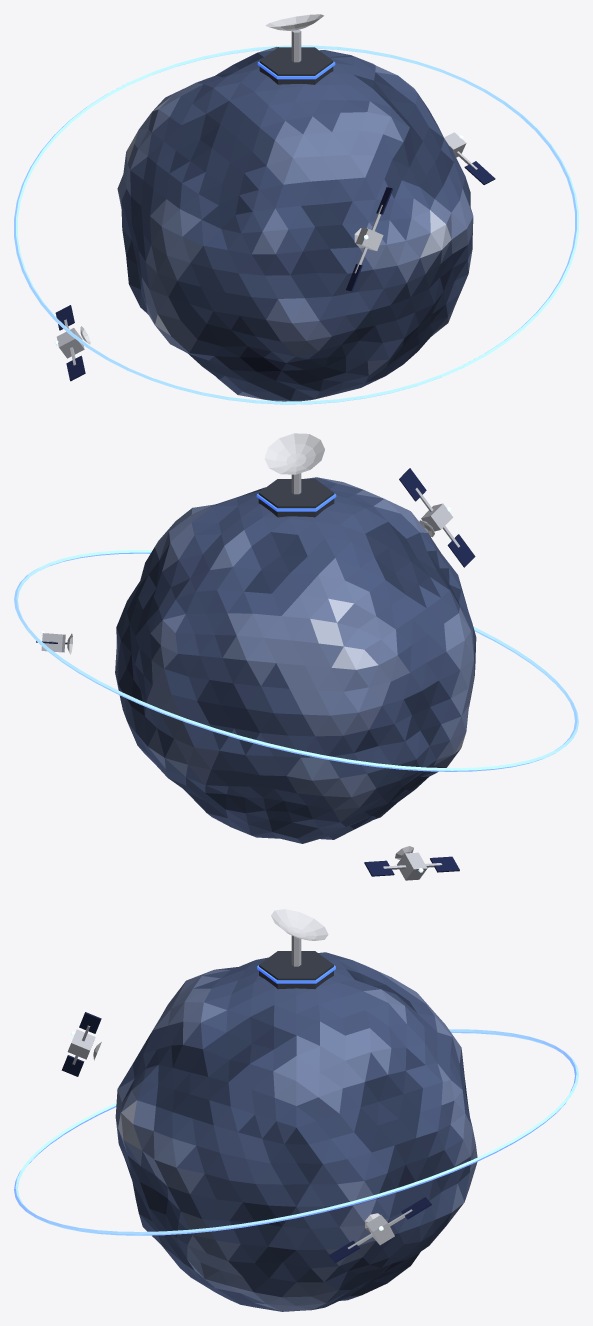
Rendered from planet-satellite.glb.
3 renders of one model, top to bottom at view 1: azimuth 30°, elevation 25°; view 2: azimuth 150°, elevation 25°; view 3: azimuth 270°, elevation 25°, orthographic. The views are drawn at different scales.
Visible parts, largest first — view 1: Planet, Geofence, GroundStation, Satellite1, Satellite2, Satellite0; view 2: Planet, GroundStation, Geofence, Satellite2, Satellite1; view 3: Planet, Geofence, GroundStation, Satellite0, Satellite2.
Part boxes in pixels (x1,y1,x2,y2): Planet: (117,47,473,401); Geofence: (14,45,578,404); GroundStation: (257,14,335,84); Satellite1: (54,305,90,381); Satellite2: (346,187,392,291); Satellite0: (444,132,495,184); Planet: (115,477,476,843); GroundStation: (256,433,336,517); Geofence: (14,550,578,771); Satellite2: (399,468,475,567); Satellite1: (364,846,459,880); Planet: (115,952,477,1311); Geofence: (14,1029,578,1235); GroundStation: (257,909,335,989); Satellite0: (329,1197,431,1262); Satellite2: (61,1012,101,1076).
Size of the model in its own units: 8.38 by 6.11 by 8.28.
